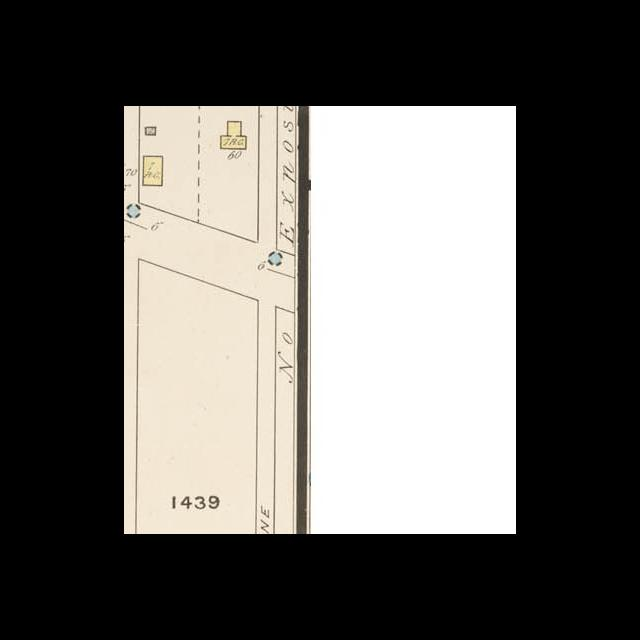building-footprints: (221, 122, 246, 149), (143, 156, 163, 186), (146, 128, 156, 135)
